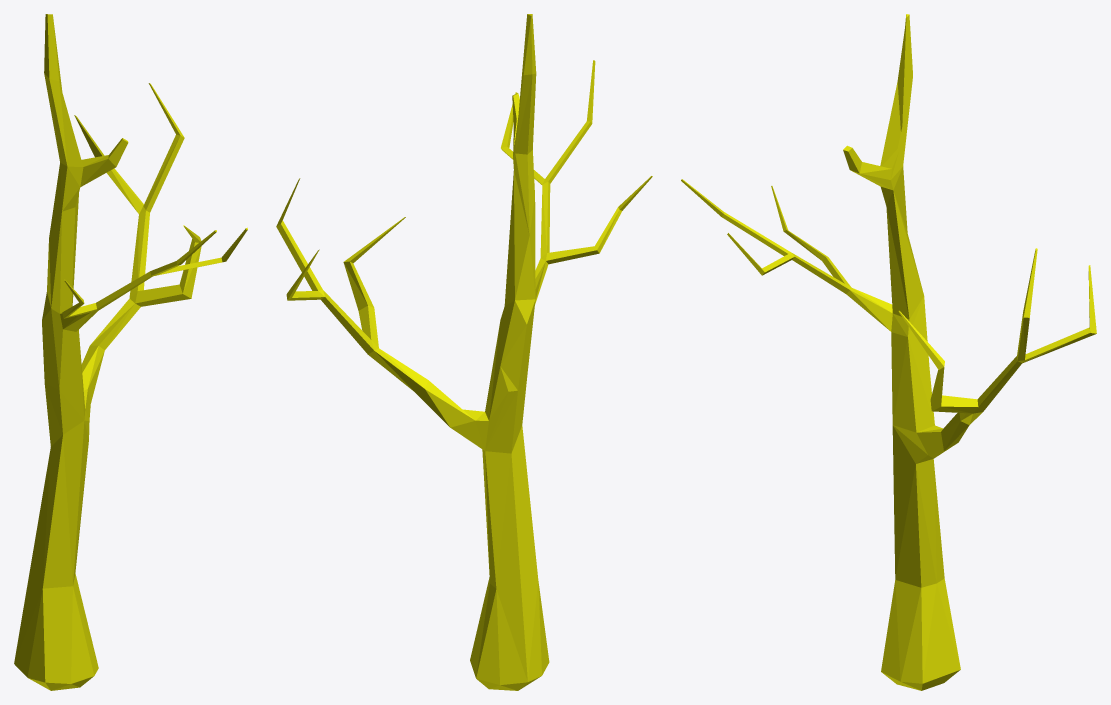
The model's file is SM_Generic_TreeDead_01.glb.
3 views of the same model, side by side, from view 1: azimuth 30°, elevation 25°; view 2: azimuth 150°, elevation 25°; view 3: azimuth 270°, elevation 25° (orthographic). The views are drawn at different scales.
Visible parts, largest first — view 1: SM_Generic_TreeDead_01; view 2: SM_Generic_TreeDead_01; view 3: SM_Generic_TreeDead_01.
Part boxes in pixels (left/top/right/bottom): SM_Generic_TreeDead_01: left=14, top=14, right=247, bottom=690; SM_Generic_TreeDead_01: left=276, top=14, right=652, bottom=690; SM_Generic_TreeDead_01: left=681, top=14, right=1096, bottom=690.
Size of the model in its own units: 2.03 by 5.24 by 3.
1 material, 1 textured.
